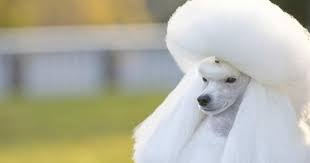Poodle: (136, 1, 310, 163)
